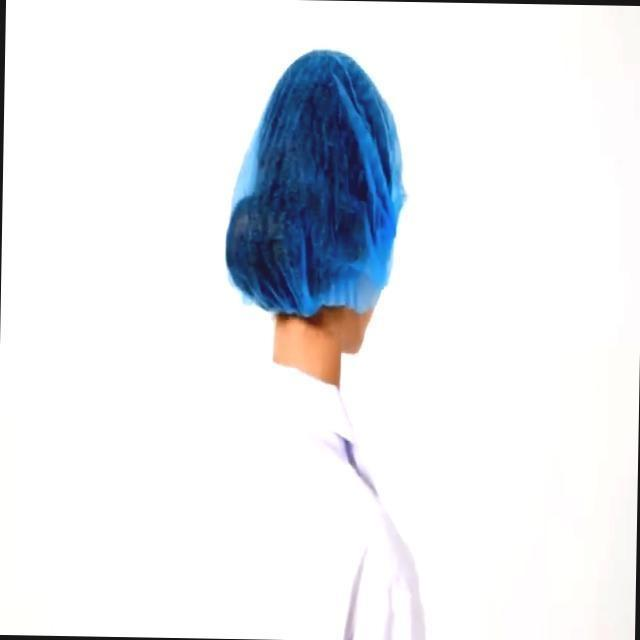gloves: (237, 67, 387, 327)
